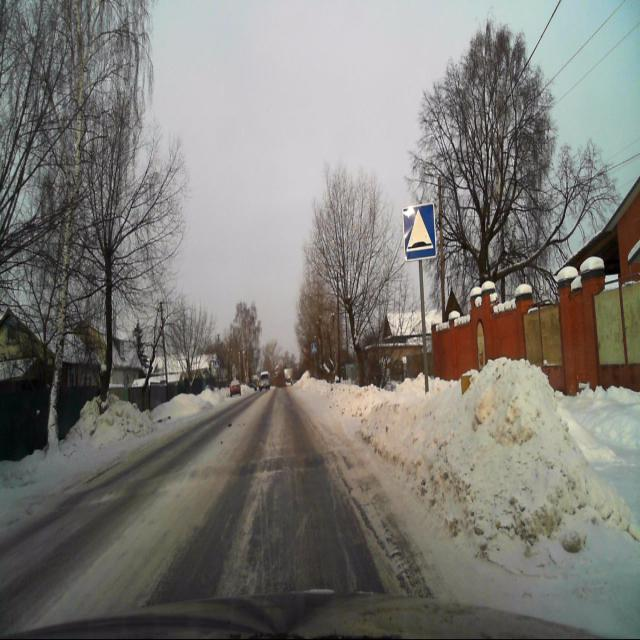object: (418, 261, 430, 396)
road sign: (402, 204, 437, 261)
